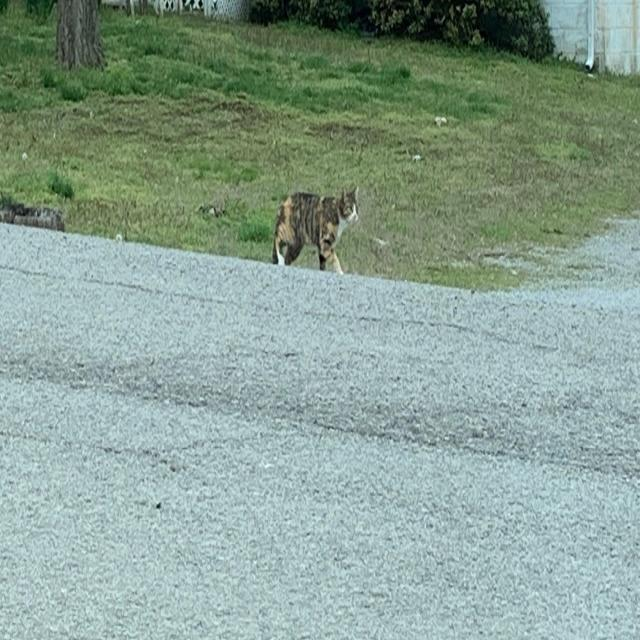cat: (272, 187, 359, 272)
